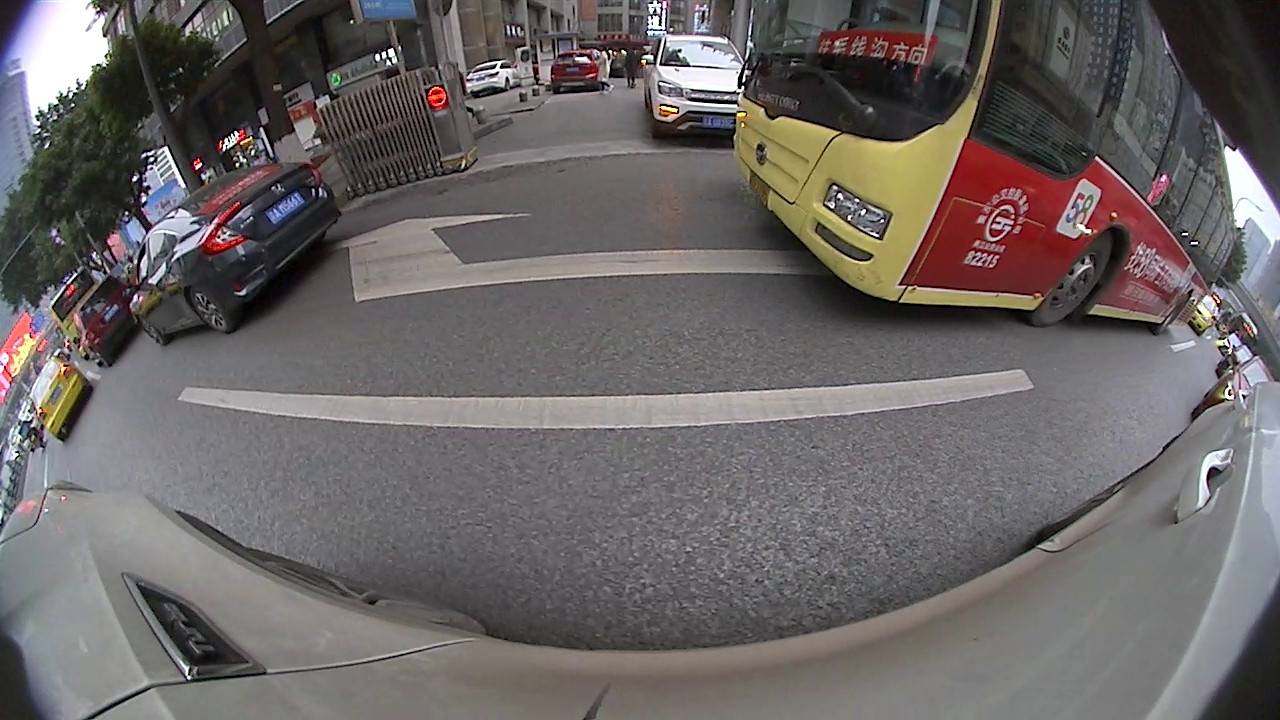car: (94, 127, 366, 322), (982, 160, 1171, 360), (425, 48, 686, 144), (672, 63, 810, 141), (1190, 389, 1267, 489), (42, 264, 102, 331)
front: (180, 263, 239, 319), (440, 116, 472, 143)
rear: (1080, 313, 1119, 358), (603, 102, 644, 137), (117, 287, 149, 324)
